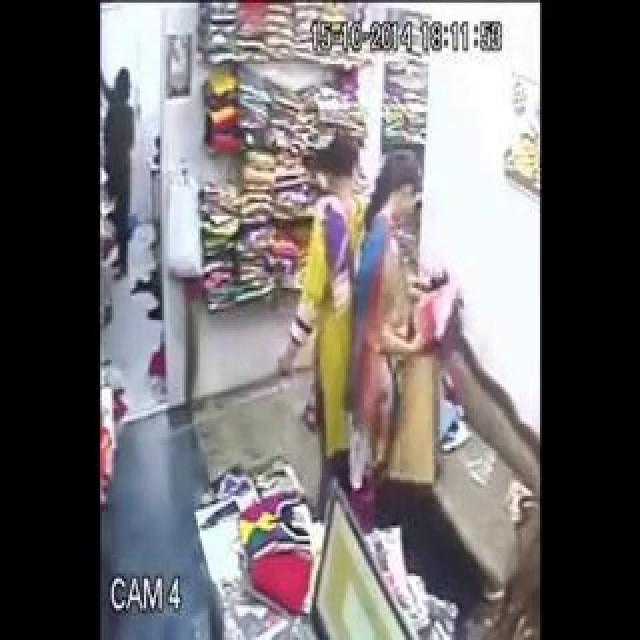Shoplifting: (363, 147, 465, 502)
